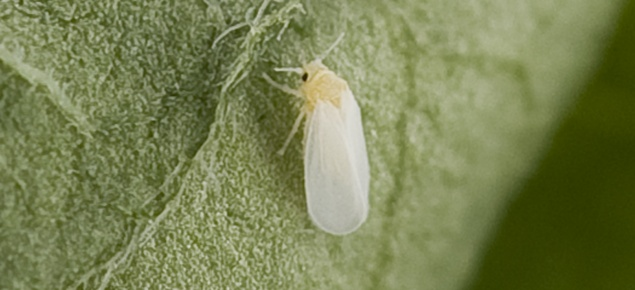Tobacco Whitefly: (276, 47, 381, 254)
